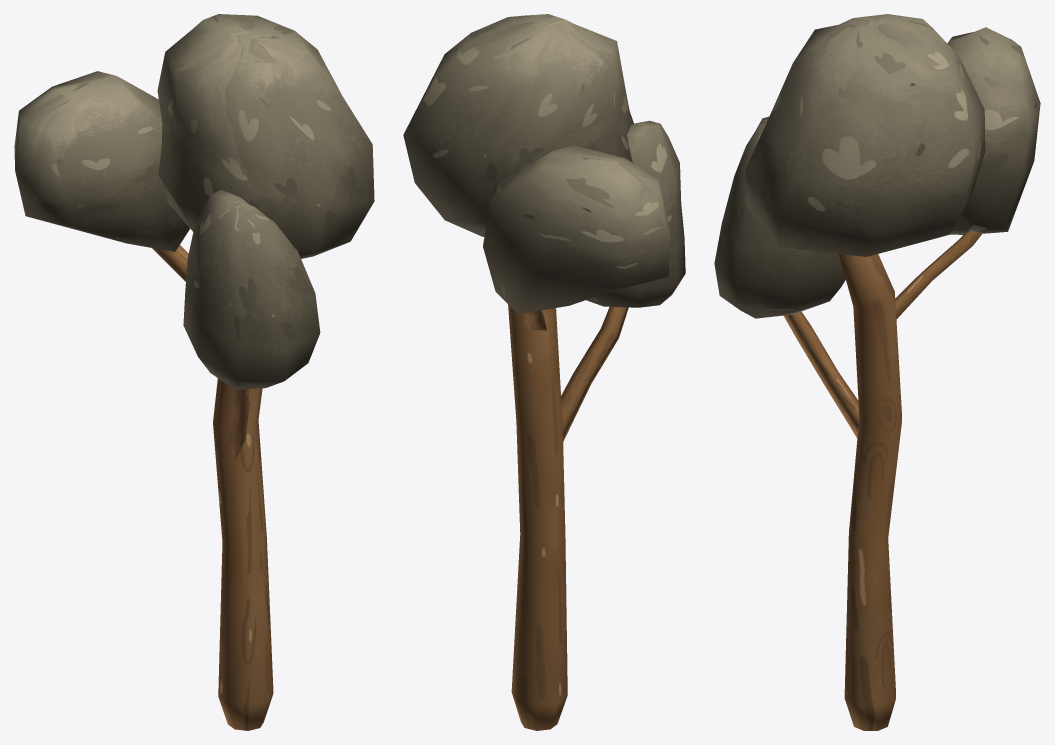
File: Beuk2.fbx
3 renders of one model, left to right at view 1: azimuth 30°, elevation 25°; view 2: azimuth 150°, elevation 25°; view 3: azimuth 270°, elevation 25°, orthographic.
Parts seen in each view (by area): view 1: Cube.041; view 2: Cube.041; view 3: Cube.041.
Part boxes in pixels (box(x1,y1,x2,y2)): Cube.041: box(14, 14, 374, 730); Cube.041: box(403, 14, 685, 730); Cube.041: box(714, 14, 1040, 730).
Size of the model in its own units: 1688 by 3846 by 1623.
